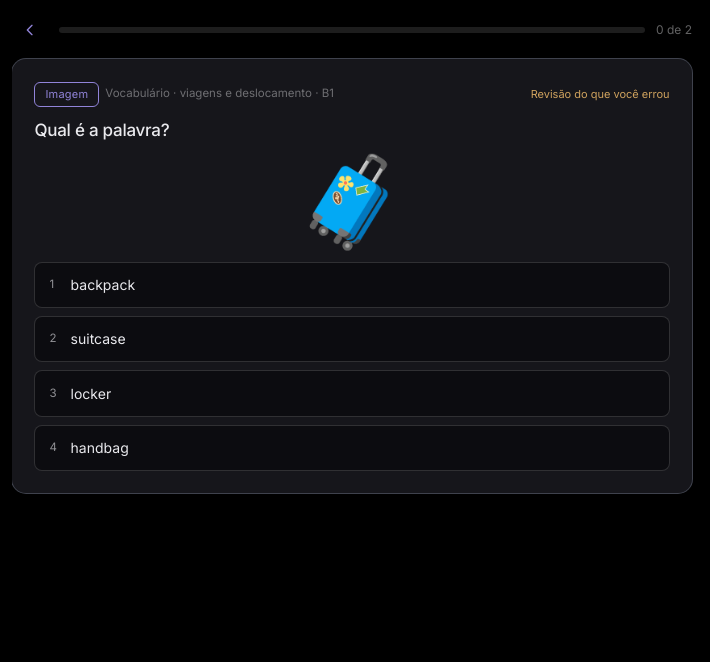
mostra a imagem, a origem da revisão e a explicação da correção
The image size is (710, 662).
Expected: the picture named "Imagem do exercício" reads "🧳", [297,147,407,253]
Expected: the text "Revisão do que você errou" is shown, [531,86,670,103]
What coordinates should you click on to do the following:
click the button "2 suitcase"
I would click on:
 (98, 339)
Its box is [34,316,670,362].
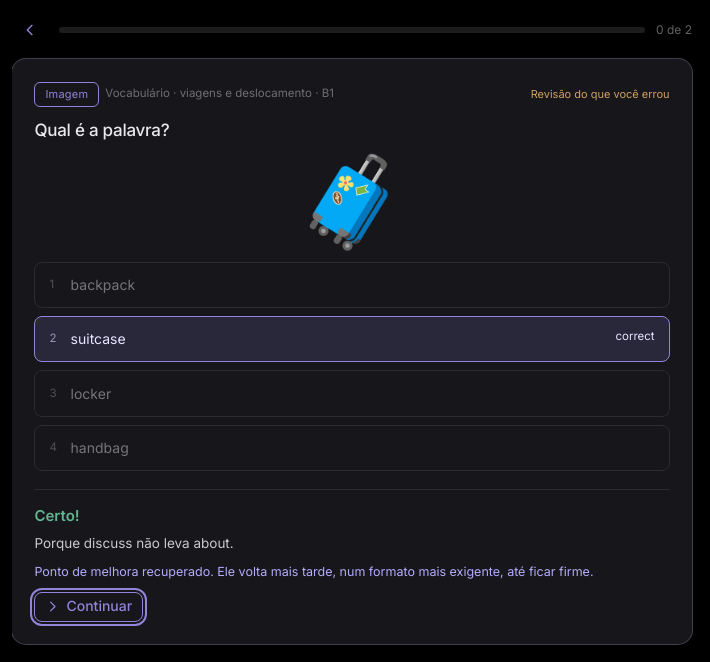
Expected: the text "Porque discuss não leva about." is shown, [34,535,234,551]
Expected: the text "num formato mais exigente" is shown, [34,564,594,579]
What coordinates should you click on to do the following:
click the button "Continuar"
I would click on:
 (89, 607)
Its box is [34,592,143,622].
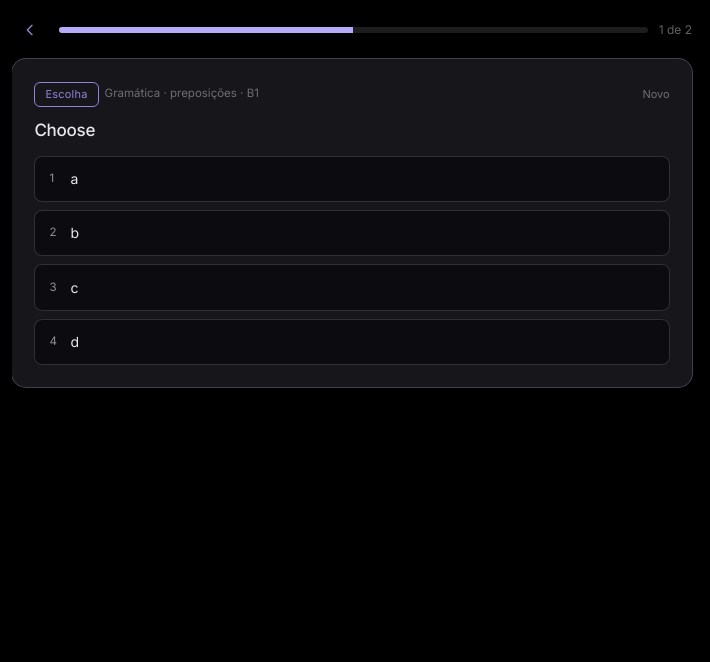
Expected: the heading "Choose" is shown, [34,120,95,140]
Expected: the text "1 de 2" is shown, [659,21,692,39]
